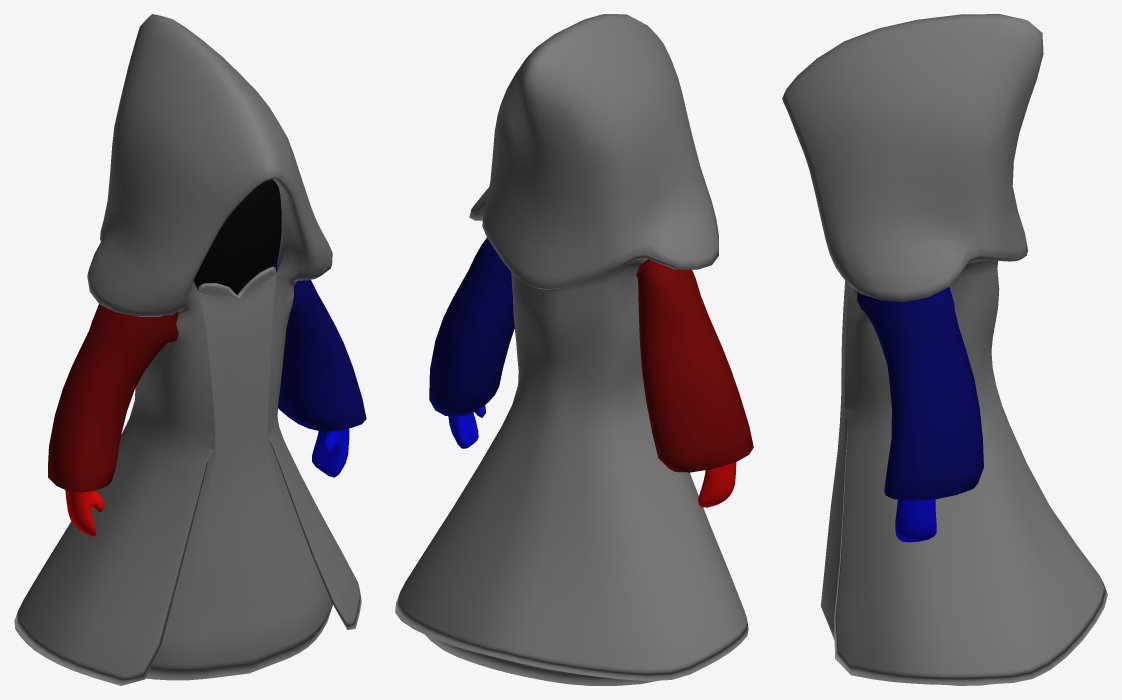
The model's file is Mage_Character.fbx.
3 renders of one model, left to right at view 1: azimuth 30°, elevation 25°; view 2: azimuth 150°, elevation 25°; view 3: azimuth 270°, elevation 25°, orthographic. The views are drawn at different scales.
Visible parts, largest first — view 1: pCube7; view 2: pCube7; view 3: pCube7.
Boxes of the visible parts, left/top/right/bottom form: pCube7: left=14, top=14, right=366, bottom=685; pCube7: left=395, top=14, right=753, bottom=685; pCube7: left=782, top=14, right=1107, bottom=685.
Bounding box in the file's own units: 921 × 1706 × 818.
